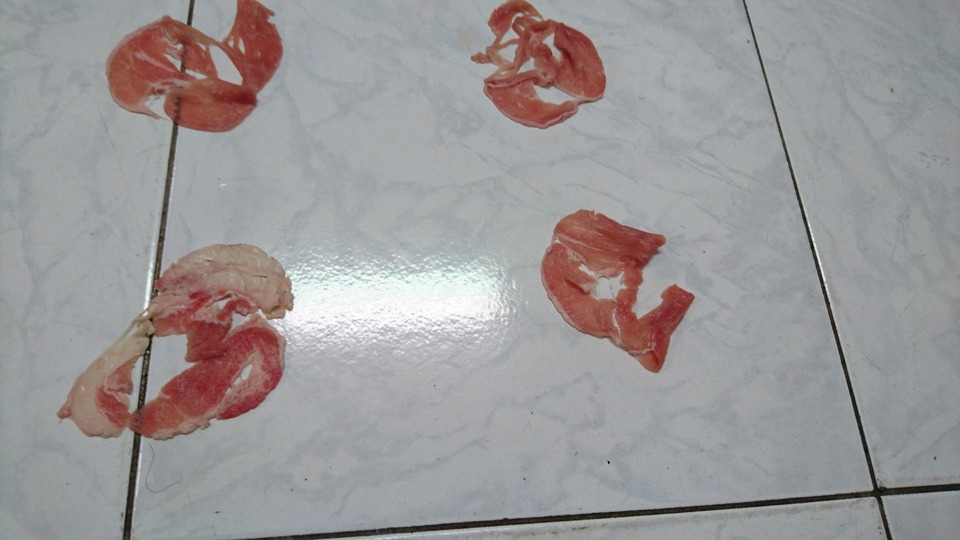restructured meat: (52, 227, 298, 440), (531, 201, 694, 384), (103, 1, 287, 137), (473, 1, 608, 136)
